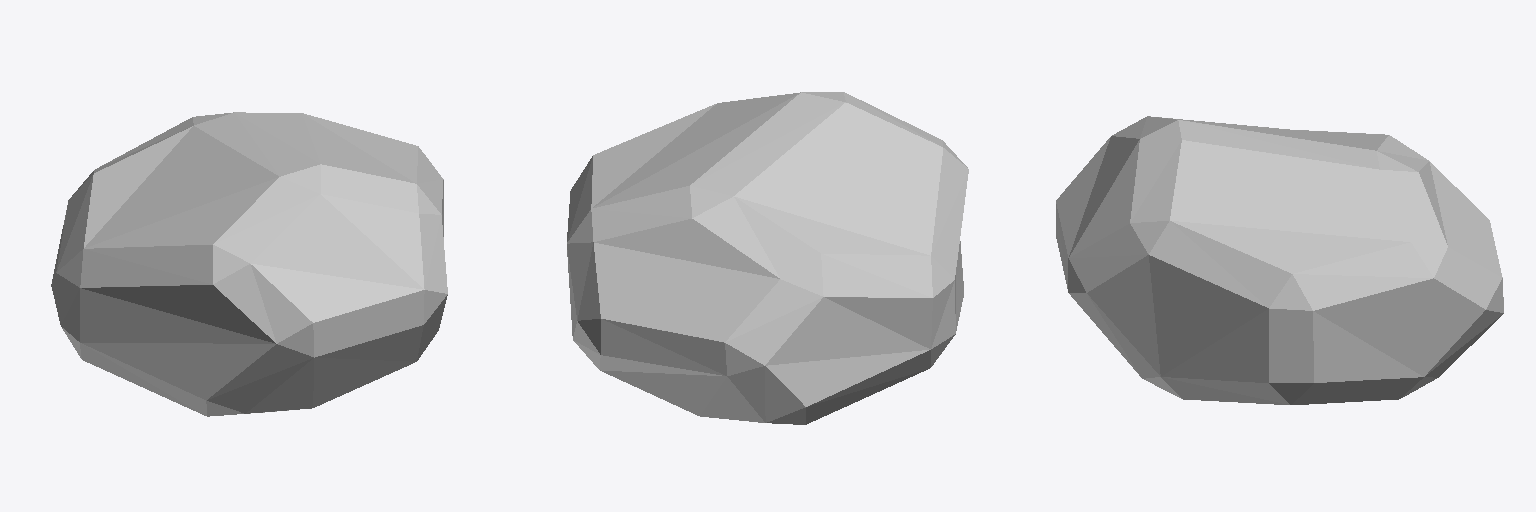
File: leaves.obj
The picture shows the model from 3 angles: view 1: azimuth 30°, elevation 25°; view 2: azimuth 150°, elevation 25°; view 3: azimuth 270°, elevation 25°; orthographic projection.
Visible parts, largest first — view 1: dodecahedron1; view 2: dodecahedron1; view 3: dodecahedron1.
Boxes of the visible parts, x1=… form: dodecahedron1: x1=51, y1=112, x2=447, y2=416; dodecahedron1: x1=567, y1=92, x2=968, y2=424; dodecahedron1: x1=1056, y1=116, x2=1503, y2=404.
Size of the model in its own units: 4.16 by 2.7 by 4.43.